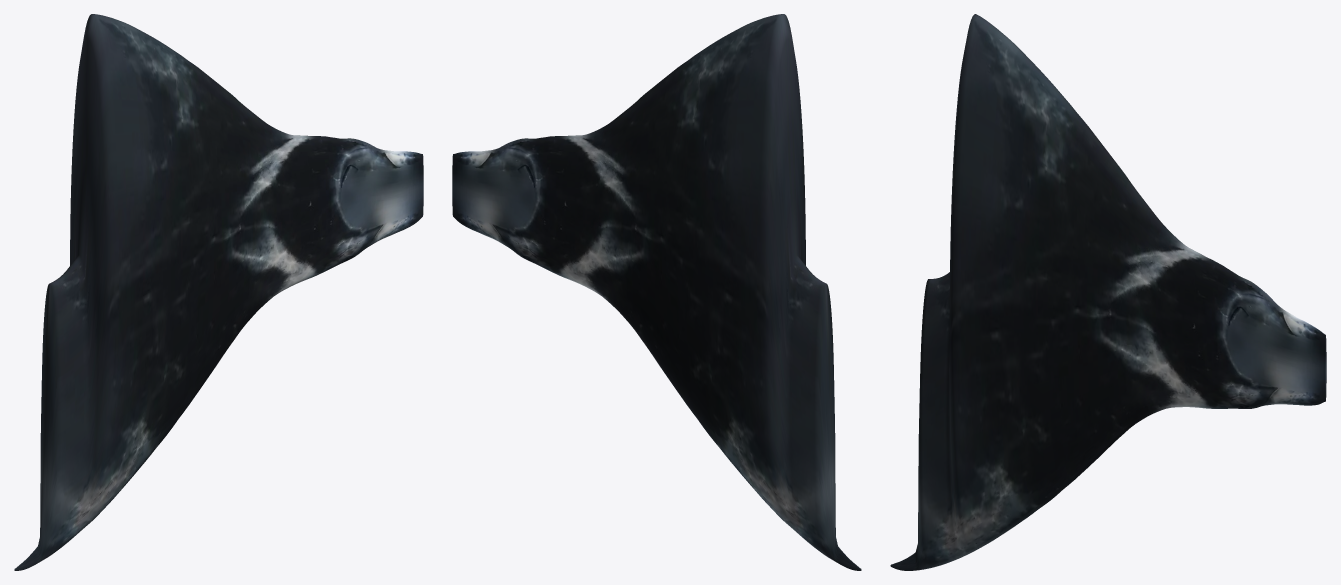
File: real-mobula_birostris.glb
3 renders of one model, left to right at view 1: azimuth 30°, elevation 25°; view 2: azimuth 150°, elevation 25°; view 3: azimuth 330°, elevation 25°, orthographic. The views are drawn at different scales.
Parts seen in each view (by area): view 1: mobula_birostris; view 2: mobula_birostris; view 3: mobula_birostris.
Part boxes in pixels (<box>): mobula_birostris: <box>14,14,423,570</box>; mobula_birostris: <box>452,14,861,570</box>; mobula_birostris: <box>890,14,1326,570</box>.
Size of the model in its own units: 4.45 by 5.6 by 0.7319.
1 material, 1 textured.
